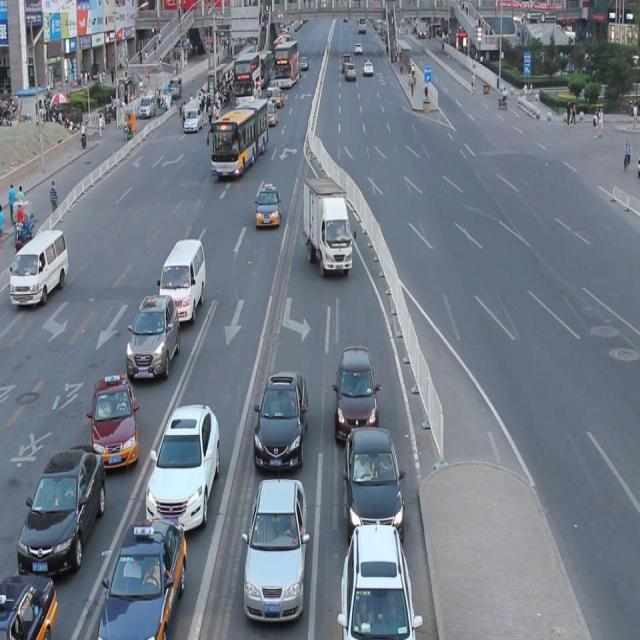bus: (302, 177, 352, 272)
car: (17, 440, 106, 578), (94, 511, 187, 640), (144, 397, 221, 531), (241, 473, 307, 620), (338, 518, 416, 640), (344, 420, 404, 536), (251, 366, 308, 468), (88, 369, 140, 468), (124, 289, 180, 378), (334, 344, 378, 448), (1, 570, 57, 640), (255, 184, 280, 228)
truck: (11, 229, 69, 303), (159, 238, 206, 325)
